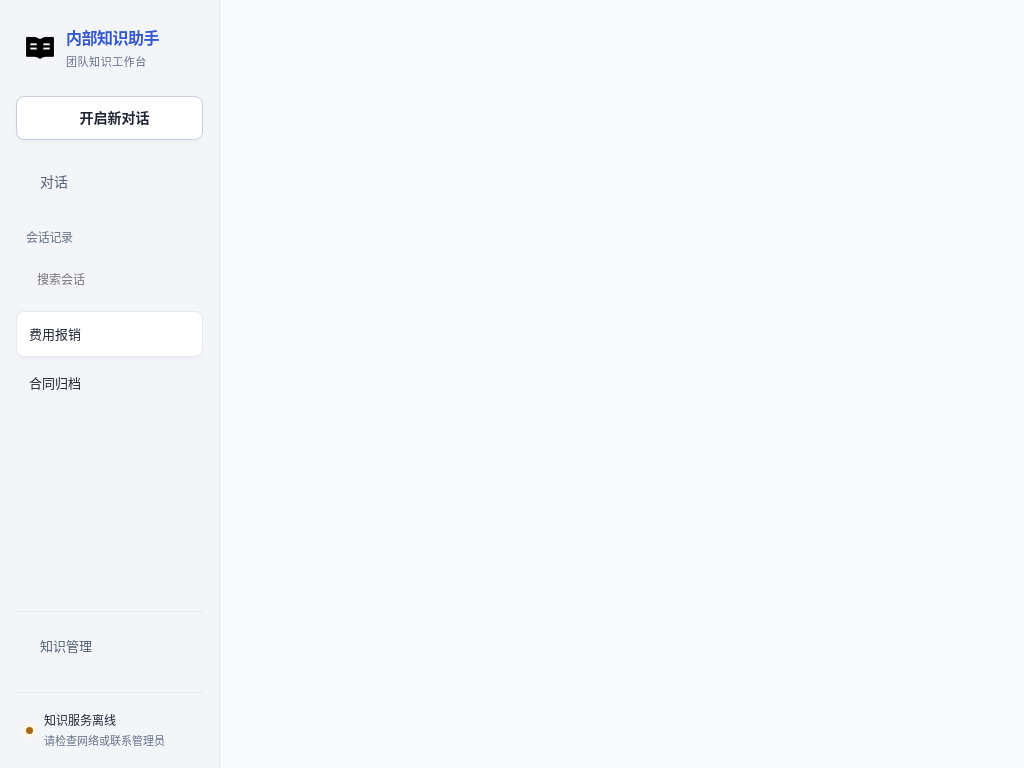
Test: AppSidebar › keeps Tab focus inside the delete dialog
This screenshot has width=1024, height=768.
Click the 1st button with class "session-delete" at (180, 334), box [158, 312, 202, 356]
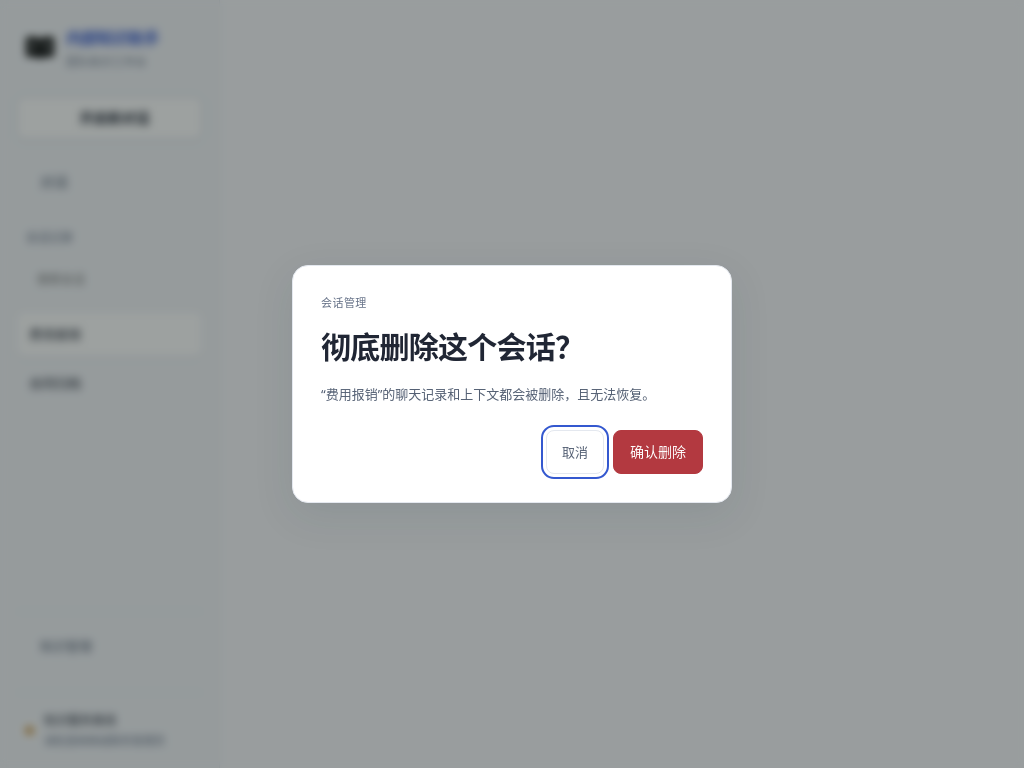
expect the dialog with class "confirm-dialog" is shown: met, box [292, 265, 732, 503]
